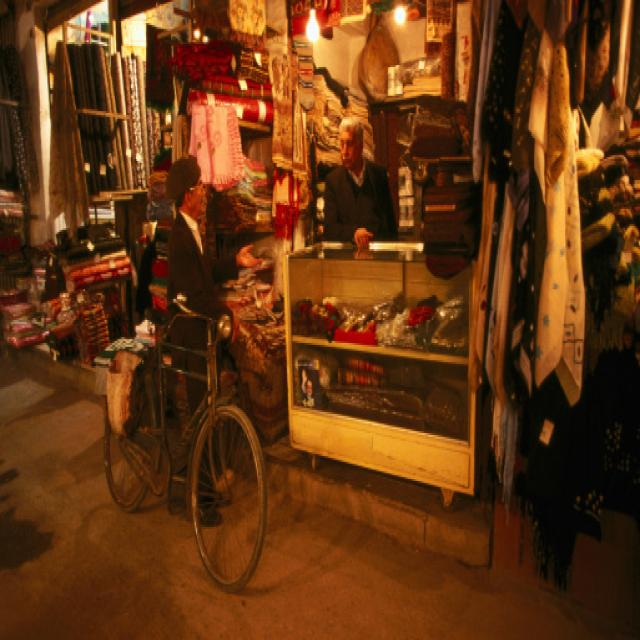Bicycle: (77, 347, 292, 589)
People: (157, 136, 228, 331), (318, 85, 387, 248)
